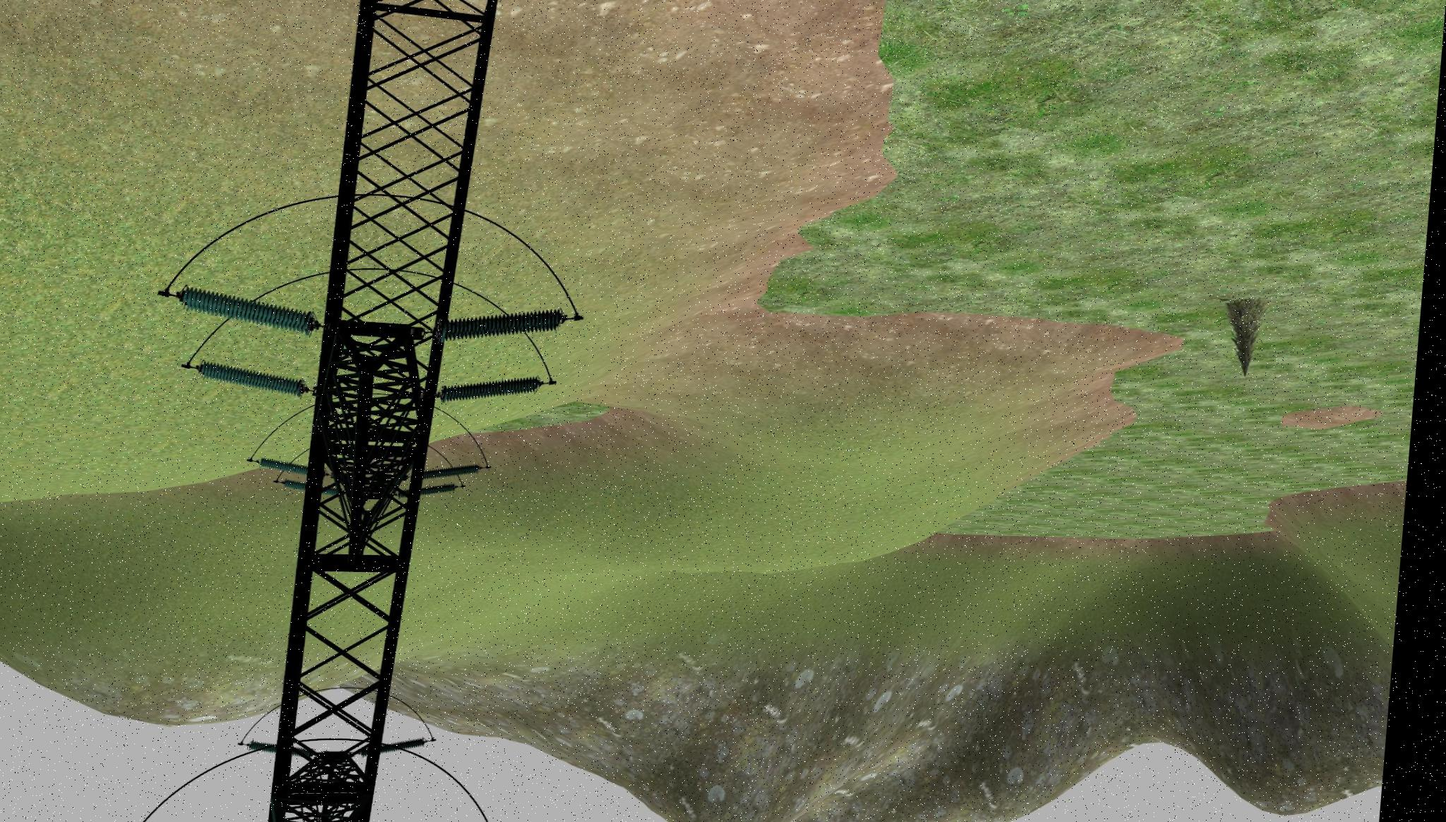tower: (237, 0, 505, 822)
